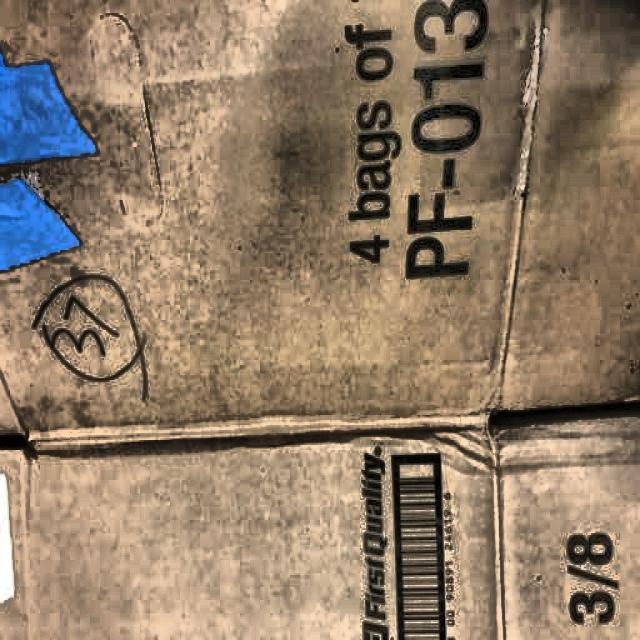cardboard: (0, 4, 640, 633)
